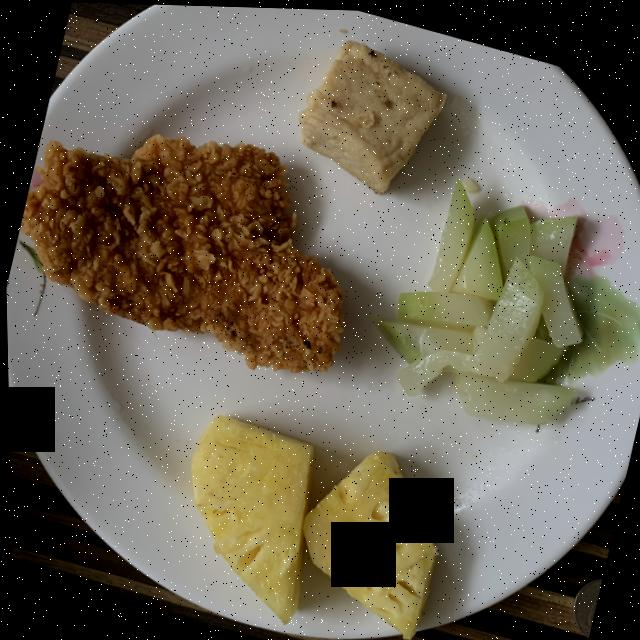coin: (568, 574, 600, 635)
creamy tofu -without sauce-: (297, 38, 444, 191)
fried chicken cutlet: (19, 133, 340, 371)
pineapple: (188, 414, 433, 635)
